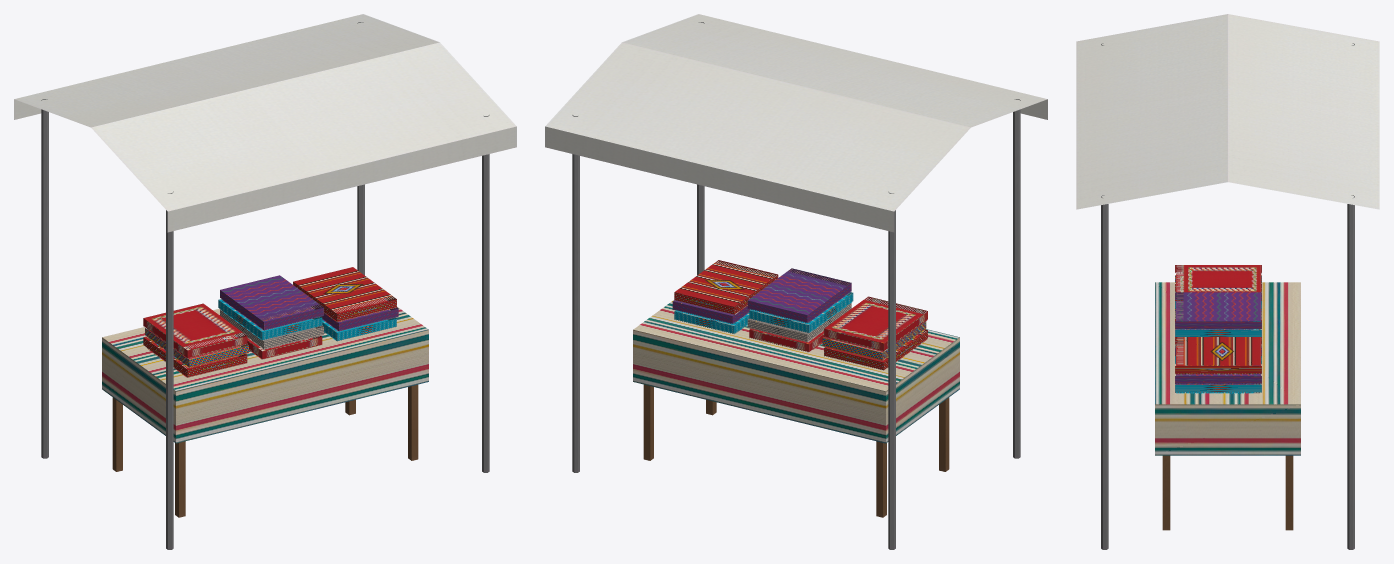
File: mesa_toldo.obj
The picture shows the model from 3 angles, left to right: view 1: azimuth 30°, elevation 25°; view 2: azimuth 150°, elevation 25°; view 3: azimuth 270°, elevation 25°; orthographic projection.
Parts seen in each view (by area): view 1: mesa_toldo; view 2: mesa_toldo; view 3: mesa_toldo.
Part boxes in pixels (<box>): mesa_toldo: <box>14,14,516,549</box>; mesa_toldo: <box>545,14,1047,549</box>; mesa_toldo: <box>1076,14,1379,549</box>.
Bounding box in the file's own units: 2.1 × 2.18 × 1.6.
